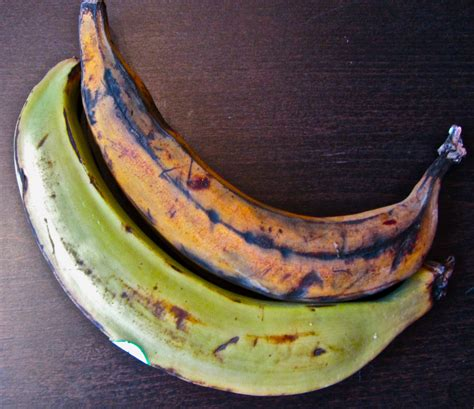banana: (10, 57, 441, 400), (74, 8, 445, 303)
